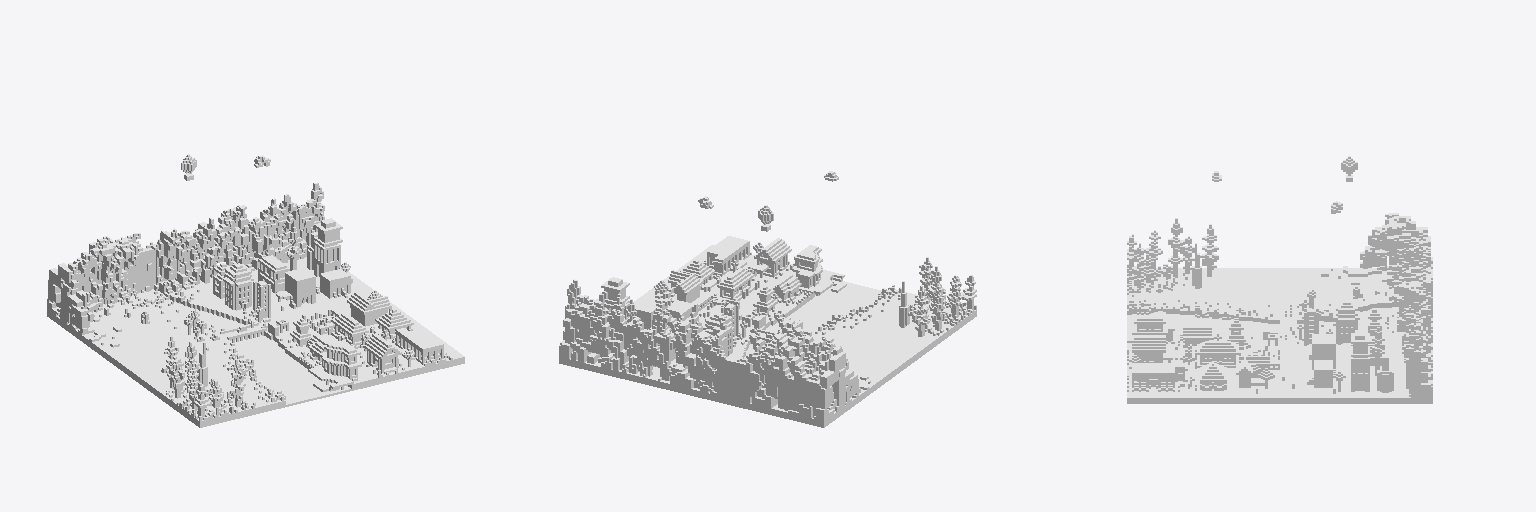
The model's file is tiny-town.obj.
3 views of the same model, side by side, from view 1: azimuth 30°, elevation 25°; view 2: azimuth 150°, elevation 25°; view 3: azimuth 270°, elevation 25° (orthographic).
Visible parts, largest first — view 1: tiny-town; view 2: tiny-town; view 3: tiny-town.
Boxes of the visible parts, box(x1,y1,x2,y2) form: tiny-town: box(47, 154, 464, 427); tiny-town: box(559, 171, 976, 427); tiny-town: box(1127, 156, 1432, 403).
Size of the model in its own units: 126 by 76 by 126.